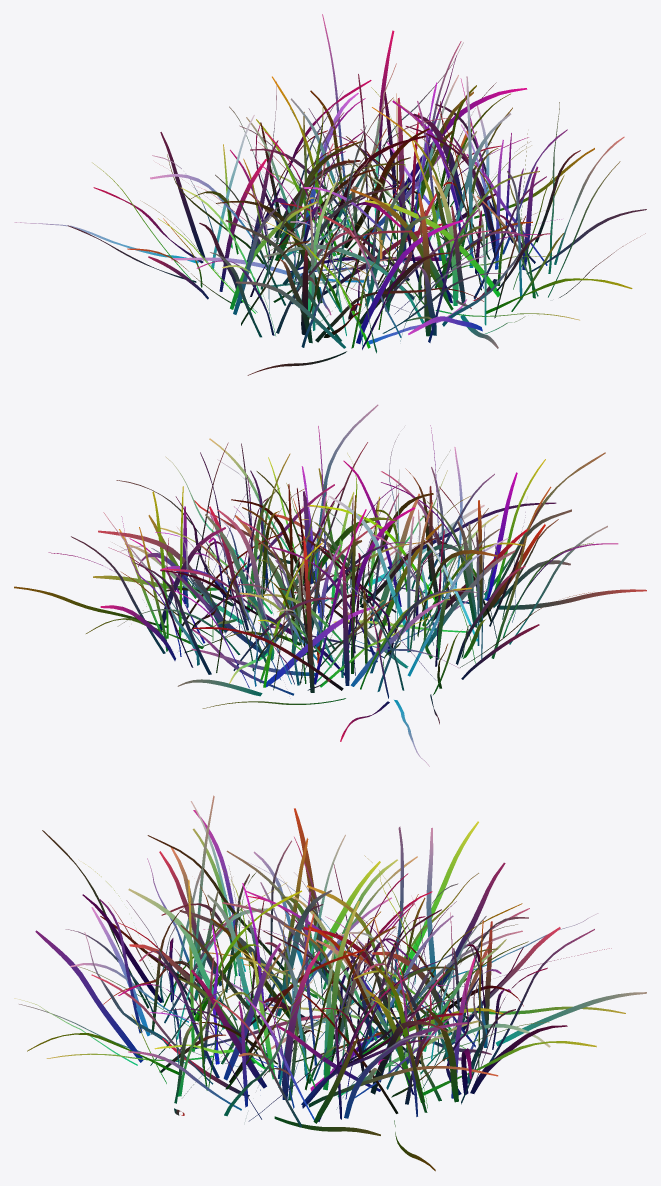
File: Wild_Grass_vlkhcbxia_High_vlkhcbxia_VarC_LOD0.fbx
The picture shows the model from 3 angles, top to bottom: view 1: azimuth 30°, elevation 25°; view 2: azimuth 150°, elevation 25°; view 3: azimuth 270°, elevation 25°; orthographic projection. The views are drawn at different scales.
Visible parts, largest first — view 1: _vycg_VarC_LOD0; view 2: _vycg_VarC_LOD0; view 3: _vycg_VarC_LOD0.
Part boxes in pixels (x1,y1,x2,y2): _vycg_VarC_LOD0: (14, 14, 646, 375); _vycg_VarC_LOD0: (14, 404, 646, 766); _vycg_VarC_LOD0: (14, 795, 646, 1171).
Bounding box in the file's own units: 49.64 × 15.44 × 47.56.
